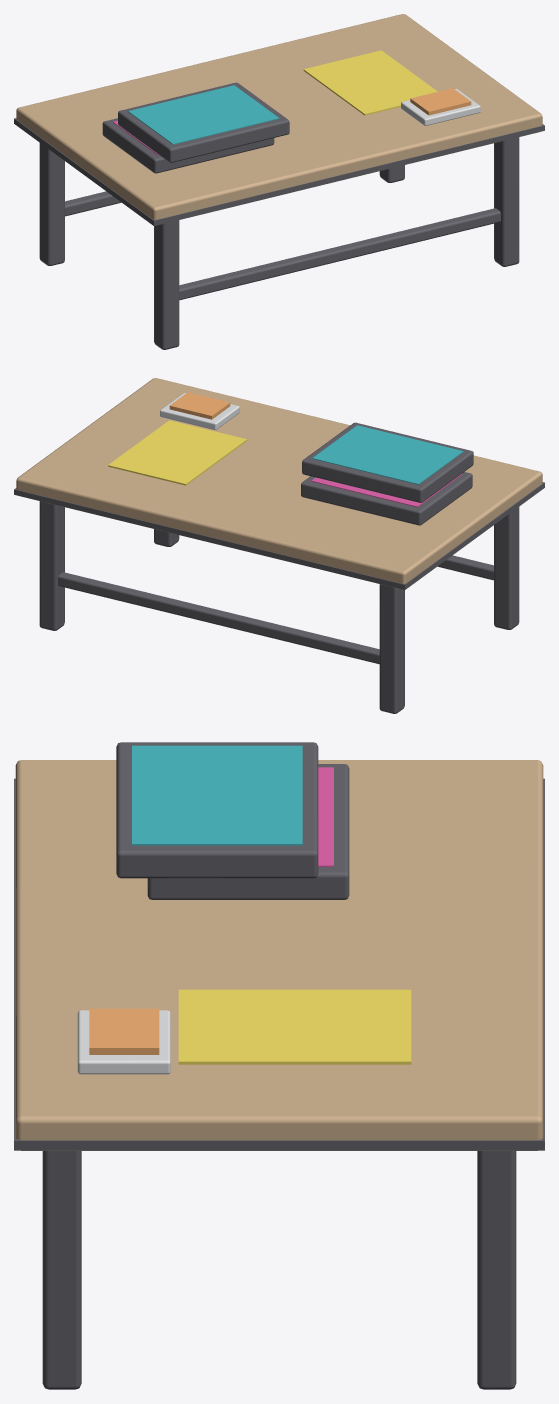
Rendered from tattoo-and-piercing-studio-low-table-with-portfolios-530bb892__34550.glb.
3 renders of one model, top to bottom at view 1: azimuth 30°, elevation 25°; view 2: azimuth 150°, elevation 25°; view 3: azimuth 270°, elevation 25°, orthographic. The views are drawn at different scales.
Parts seen in each view (by area): view 1: low-table-with-portfolios; view 2: low-table-with-portfolios; view 3: low-table-with-portfolios.
Boxes of the visible parts, <box> form: low-table-with-portfolios: <box>14,14,544,349</box>; low-table-with-portfolios: <box>14,378,544,713</box>; low-table-with-portfolios: <box>14,742,544,1389</box>.
Bounding box in the file's own units: 1.1 × 0.492 × 0.684.
